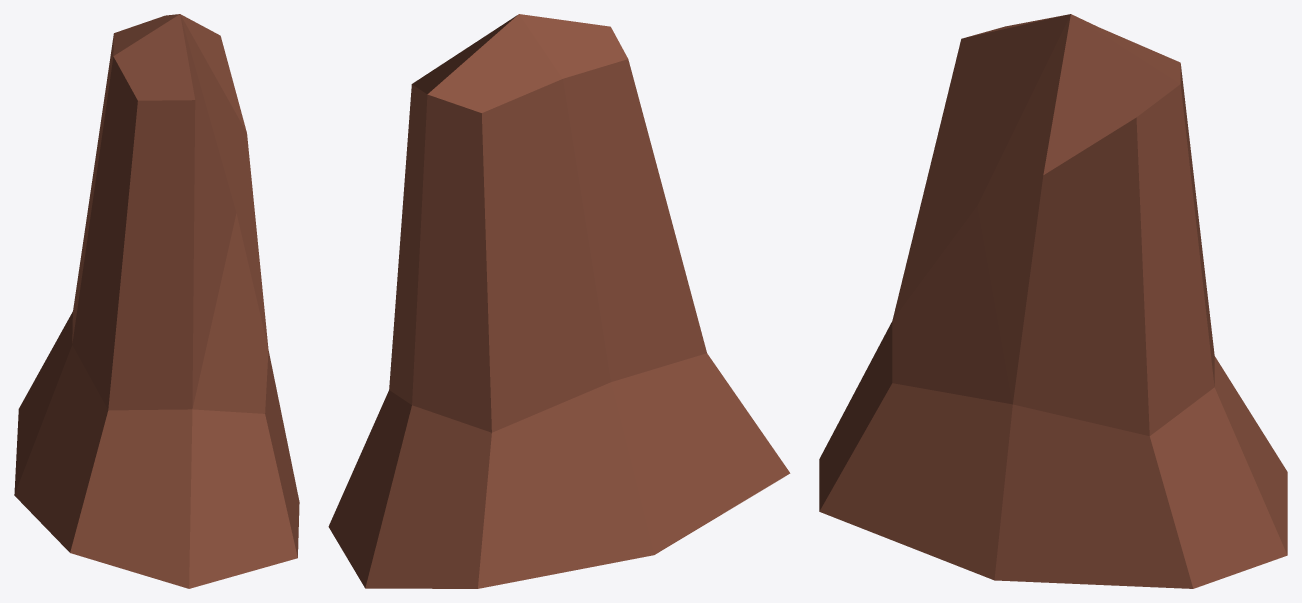
The model's file is Rock1Varient2.fbx.
3 renders of one model, left to right at view 1: azimuth 30°, elevation 25°; view 2: azimuth 150°, elevation 25°; view 3: azimuth 270°, elevation 25°, orthographic. The views are drawn at different scales.
Visible parts, largest first — view 1: LargeRock1.019; view 2: LargeRock1.019; view 3: LargeRock1.019.
Boxes of the visible parts, x1,y1,x2,y2 form: LargeRock1.019: [14, 14, 299, 588]; LargeRock1.019: [328, 14, 790, 588]; LargeRock1.019: [819, 14, 1287, 588].
Bounding box in the file's own units: 48.69 × 73.43 × 59.69.
